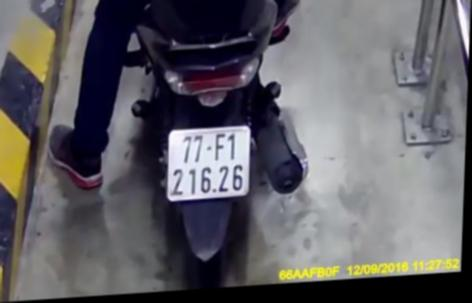License_Plate: (158, 120, 258, 205)
